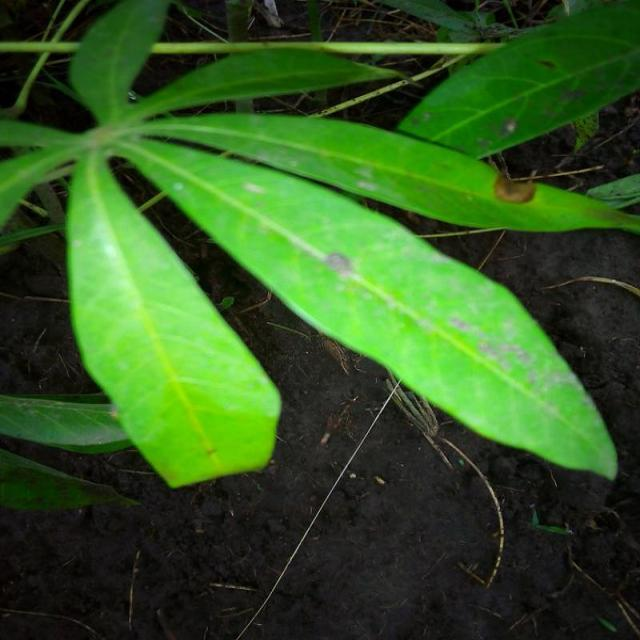cassava leaf: (113, 129, 620, 482), (65, 145, 283, 489), (138, 109, 640, 236), (396, 0, 640, 160)
